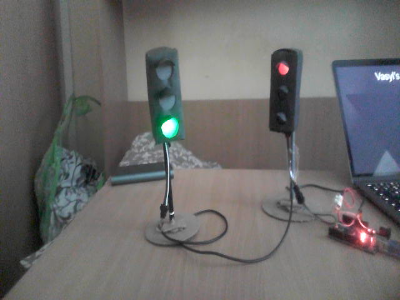trafficlight_green: (153, 51, 183, 140)
trafficlight_red: (269, 54, 297, 132)
